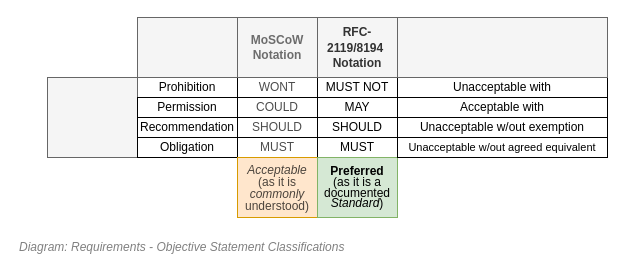
The diagram is 625 pixels wide and 275 high, and some of its shapes have lost their labels. Here are the shapes that lost their labels. From the top down, the centre of each, then its label:
At point (187, 47): "Commissive Deontic Modal Auxilliary Verb".
At point (502, 47): "Acceptability".
At point (92, 117): "Objective Statements (Requirements)".
